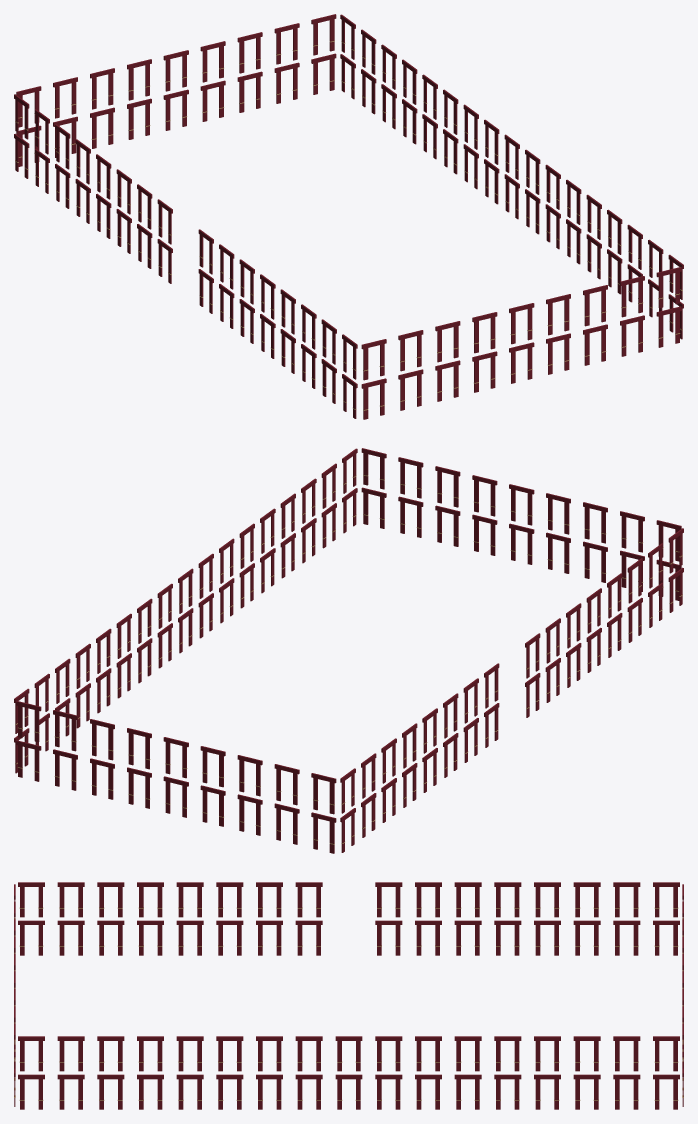
The model's file is SM_Malikane_Perdeler.fbx.
The picture shows the model from 3 angles, top to bottom: view 1: azimuth 30°, elevation 25°; view 2: azimuth 150°, elevation 25°; view 3: azimuth 270°, elevation 25°; orthographic projection. The views are drawn at different scales.
Parts seen in each view (by area): view 1: Malikane_Perdeler; view 2: Malikane_Perdeler; view 3: Malikane_Perdeler.
Boxes of the visible parts, x1=… form: Malikane_Perdeler: x1=14, y1=14, x2=683, y2=419; Malikane_Perdeler: x1=14, y1=448, x2=683, y2=853; Malikane_Perdeler: x1=14, y1=882, x2=683, y2=1109.
Bounding box in the file's own units: 4346 × 950 × 7946.
